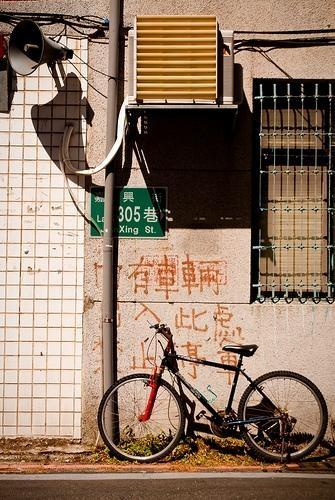bicycle: (97, 322, 322, 460)
